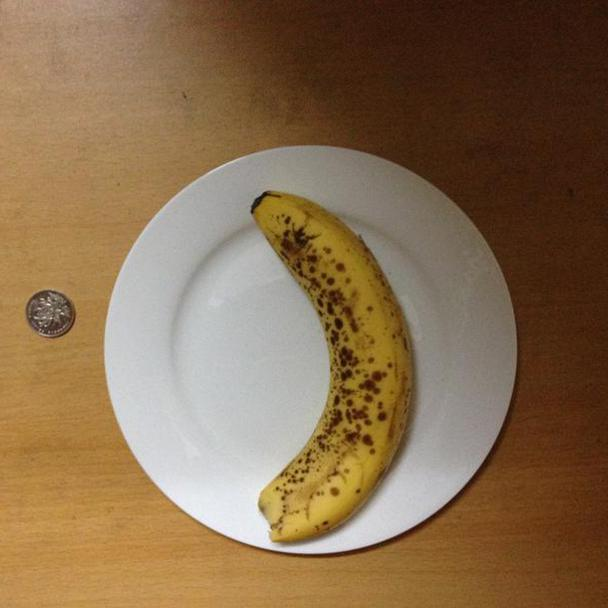banana: (233, 183, 422, 541)
